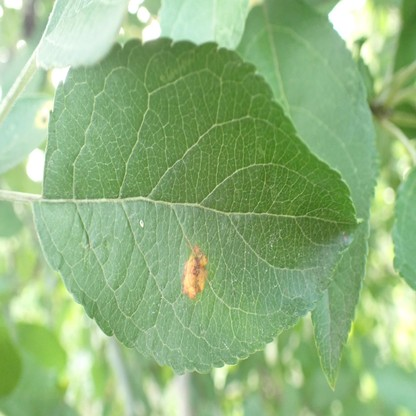rust: (182, 249, 208, 297), (33, 100, 53, 130)
